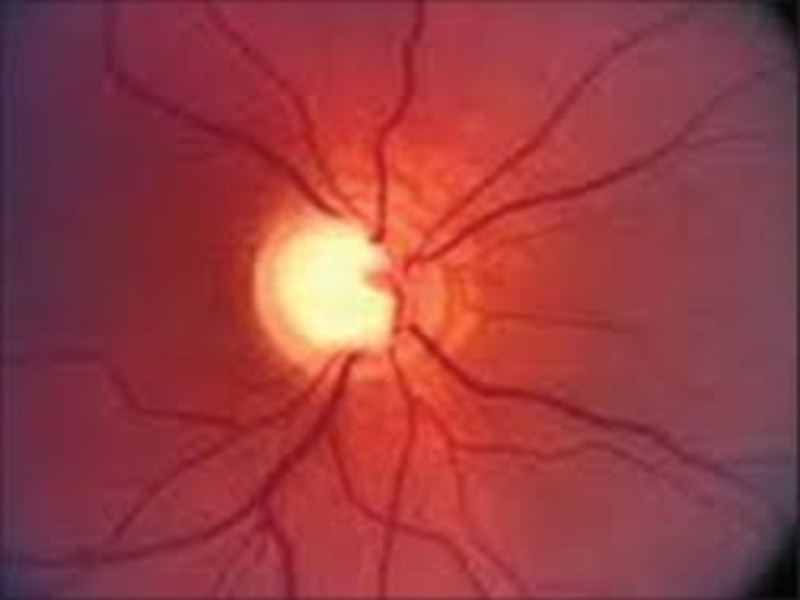Optic Cup: (276, 223, 398, 348)
Optic Disc: (251, 209, 454, 375)
